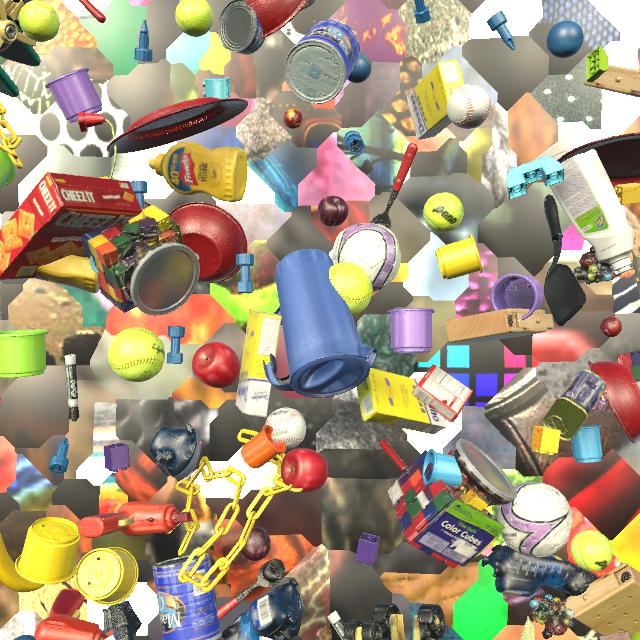ycb_002_master_chef_can: (284, 19, 360, 104), (152, 553, 222, 640)
ycb_003_cracker_box: (0, 172, 142, 280), (300, 0, 315, 11)
ycb_004_sugar_box: (357, 368, 447, 434), (235, 309, 282, 417), (407, 59, 464, 140)
ycb_006_mustard_bottle: (149, 142, 248, 202), (35, 255, 99, 293)
ycb_007_tuna_fish_can: (218, 0, 265, 55)
ycb_009_gelatin_box: (412, 364, 473, 423)
ycb_010_potted_meat_can: (542, 369, 606, 441)
ycb_011_banana: (0, 533, 44, 592)
ycb_013_apple: (192, 342, 240, 388), (281, 448, 328, 493)
ycb_016_pear: (630, 631, 640, 640)
ycb_018_plum: (240, 527, 271, 561), (318, 196, 348, 227)
